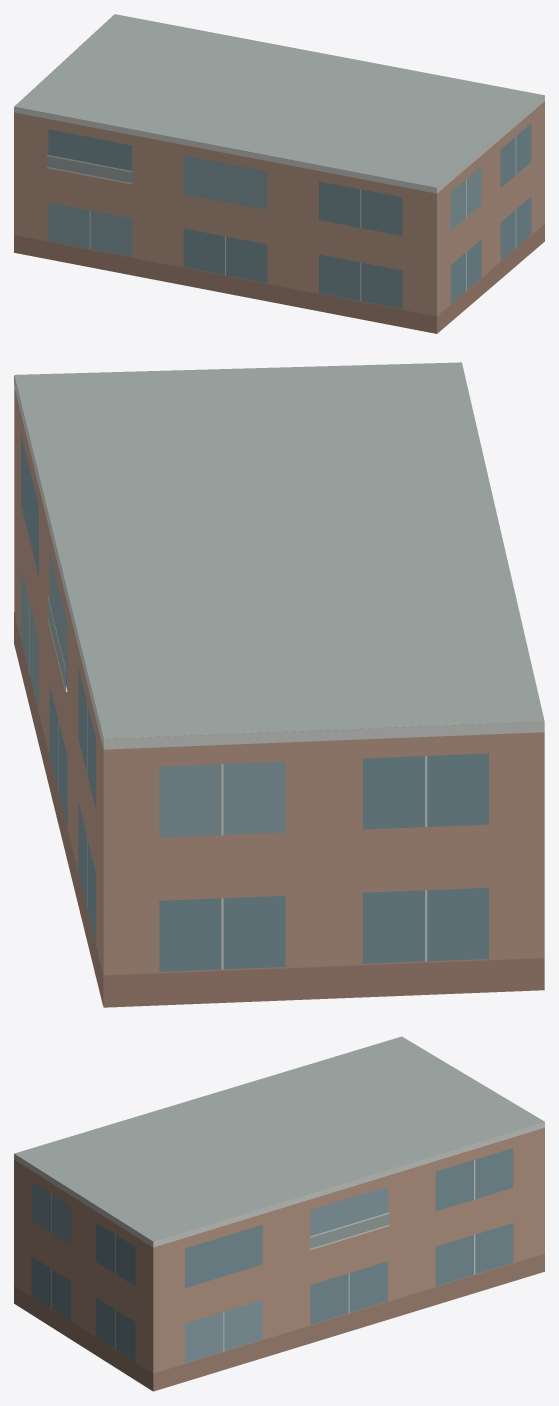
The model's file is survey-upis-32802295.glb.
3 renders of one model, top to bottom at view 1: azimuth 30°, elevation 25°; view 2: azimuth 150°, elevation 25°; view 3: azimuth 270°, elevation 25°, orthographic. The views are drawn at different scales.
Visible parts, largest first — view 1: survey-upis-32802295.tmp; view 2: survey-upis-32802295.tmp; view 3: survey-upis-32802295.tmp.
Boxes of the visible parts, x1,y1,x2,y2 form: survey-upis-32802295.tmp: (14, 14, 544, 333); survey-upis-32802295.tmp: (14, 362, 544, 1007); survey-upis-32802295.tmp: (14, 1036, 544, 1391).
Bounding box in the file's own units: 17.91 × 6.1 × 19.58.
